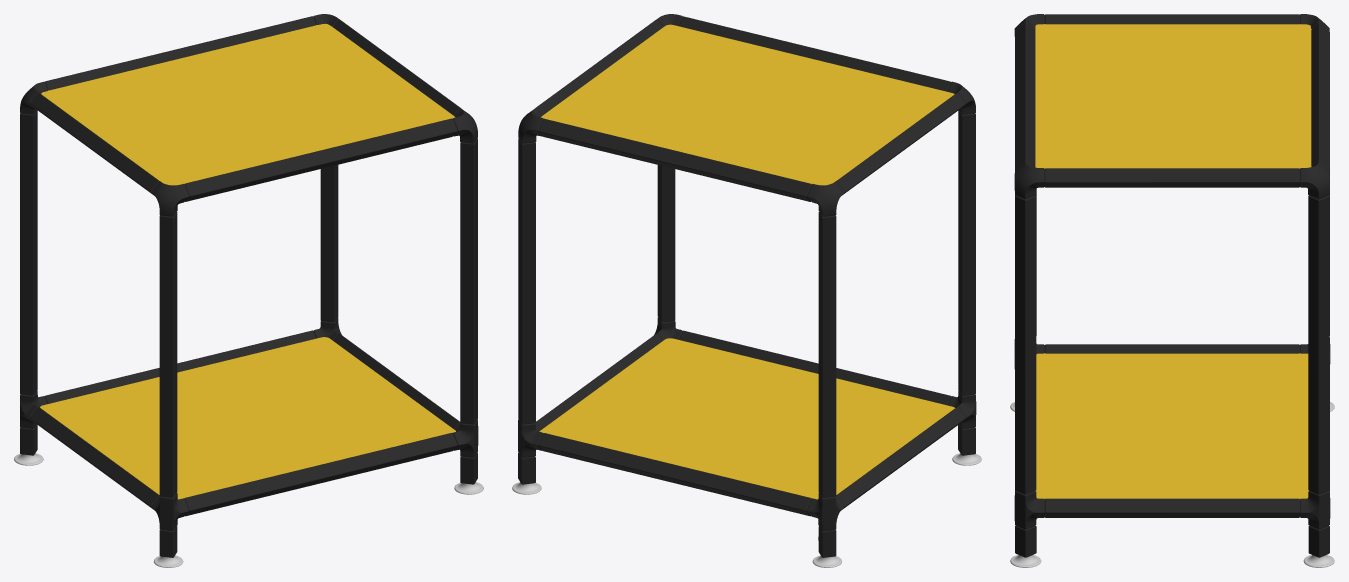
3 views of the same model, side by side, from view 1: azimuth 30°, elevation 25°; view 2: azimuth 150°, elevation 25°; view 3: azimuth 270°, elevation 25° (orthographic). The views are drawn at different scales.
Parts seen in each view (by area): view 1: 420x329x420; view 2: 420x329x420; view 3: 420x329x420.
Part boxes in pixels (x1,y1,x2,y2): 420x329x420: (14, 14, 483, 567); 420x329x420: (512, 14, 981, 567); 420x329x420: (1010, 14, 1334, 567).
Size of the model in its own units: 0.5099 by 0.5593 by 0.4183.
